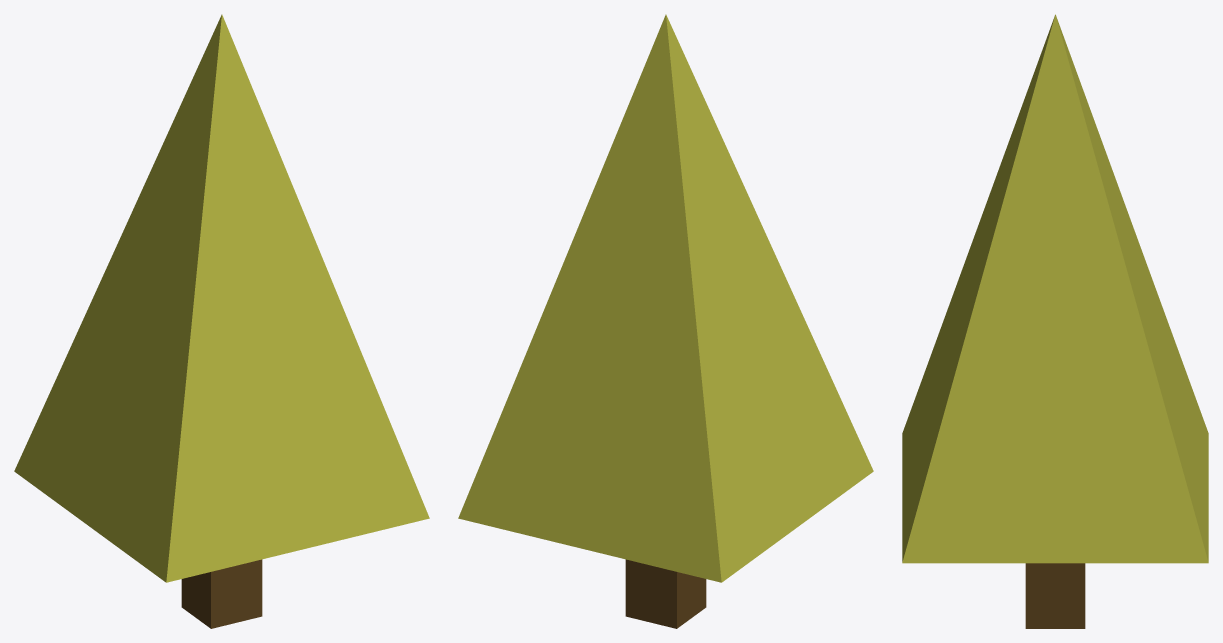
The model's file is 054 Xmas_Tree.fbx.
The picture shows the model from 3 angles, left to right: view 1: azimuth 30°, elevation 25°; view 2: azimuth 150°, elevation 25°; view 3: azimuth 270°, elevation 25°; orthographic projection.
Visible parts, largest first — view 1: Lowpoly_Christmas_Pack_054:pCube1; view 2: Lowpoly_Christmas_Pack_054:pCube1; view 3: Lowpoly_Christmas_Pack_054:pCube1.
Part boxes in pixels (<box>): Lowpoly_Christmas_Pack_054:pCube1: <box>14,14,429,628</box>; Lowpoly_Christmas_Pack_054:pCube1: <box>458,14,873,628</box>; Lowpoly_Christmas_Pack_054:pCube1: <box>902,14,1208,628</box>.
Bounding box in the file's own units: 1 × 2.17 × 1.
